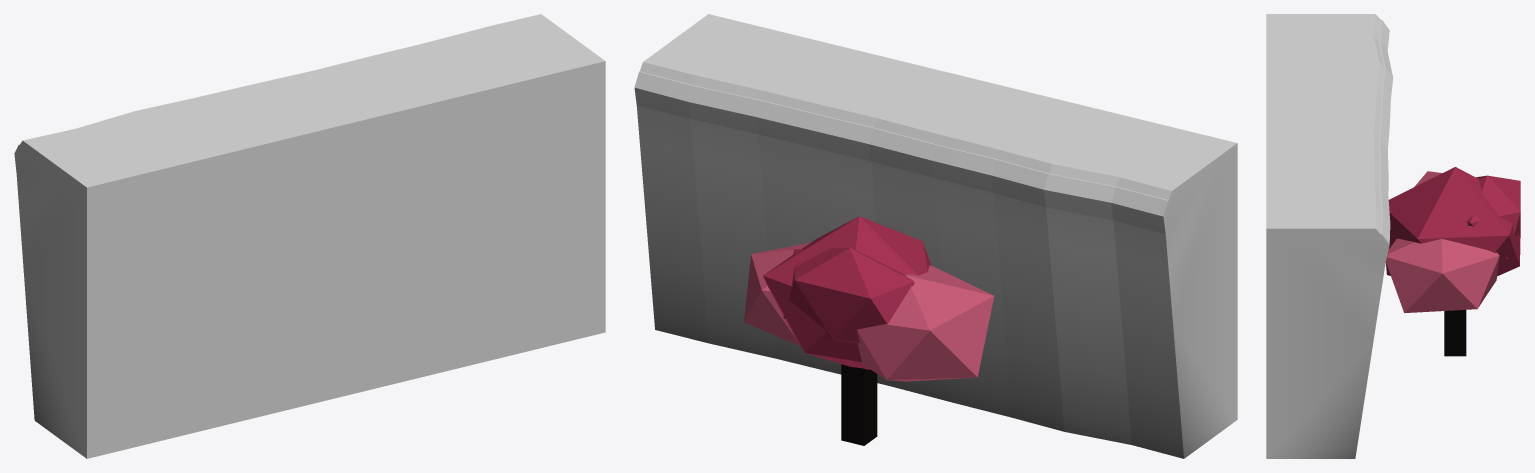
File: JapanCliff_Edge2_V3.fbx
3 renders of one model, left to right at view 1: azimuth 30°, elevation 25°; view 2: azimuth 150°, elevation 25°; view 3: azimuth 270°, elevation 25°, orthographic. The views are drawn at different scales.
Visible parts, largest first — view 1: JapanCliff_Edge2_V3; view 2: JapanCliff_Edge2_V3; view 3: JapanCliff_Edge2_V3.
Part boxes in pixels (left/top/right/bottom): JapanCliff_Edge2_V3: left=14, top=14, right=605, bottom=458; JapanCliff_Edge2_V3: left=634, top=14, right=1237, bottom=458; JapanCliff_Edge2_V3: left=1266, top=14, right=1520, bottom=458.
Size of the model in its own units: 2 by 1 by 1.
